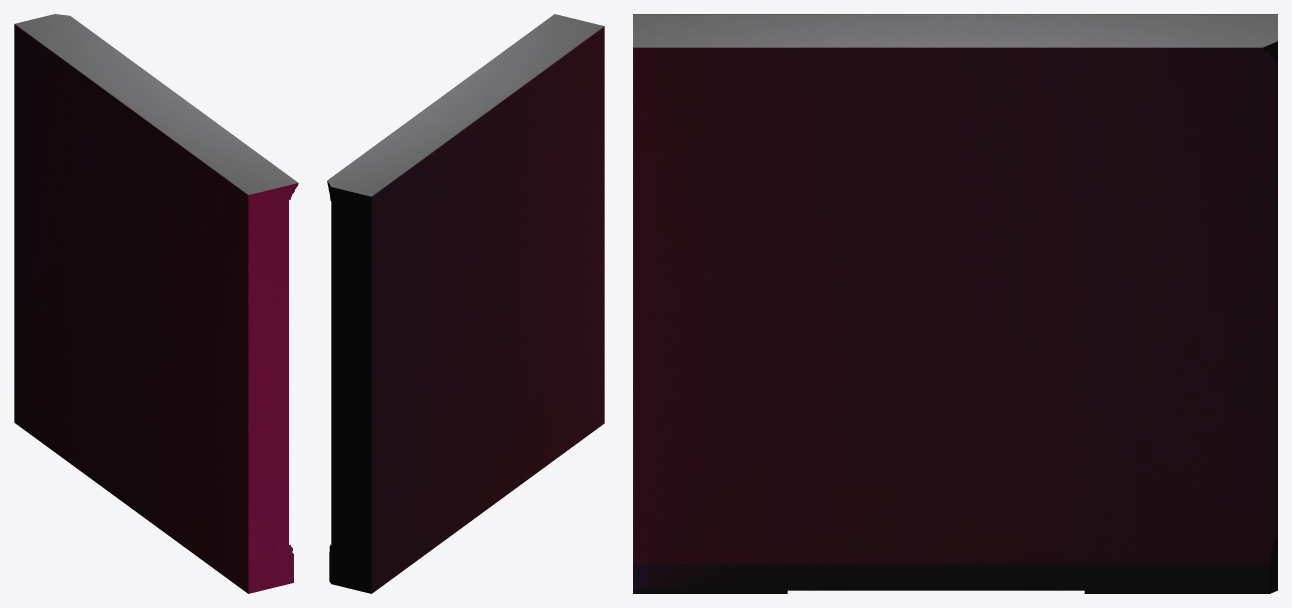
File: wall_left_back.glb
3 renders of one model, left to right at view 1: azimuth 30°, elevation 25°; view 2: azimuth 150°, elevation 25°; view 3: azimuth 270°, elevation 25°, orthographic. The views are drawn at different scales.
Visible parts, largest first — view 1: wall_left_back; view 2: wall_left_back; view 3: wall_left_back.
Part boxes in pixels (left/top/right/bottom): wall_left_back: left=14, top=14, right=298, bottom=593; wall_left_back: left=327, top=14, right=604, bottom=593; wall_left_back: left=633, top=14, right=1277, bottom=593.
Size of the model in its own units: 2.48 by 18.8 by 20.
Materials: 1 (1 with a texture image).
